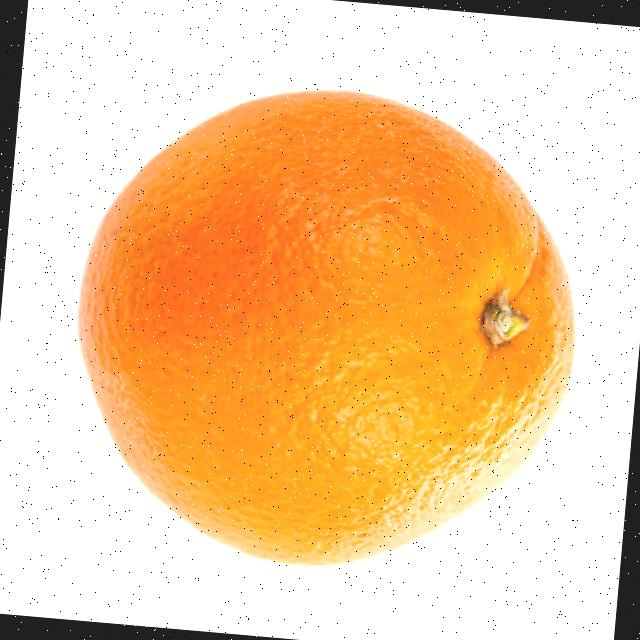orange: (56, 66, 598, 588)
